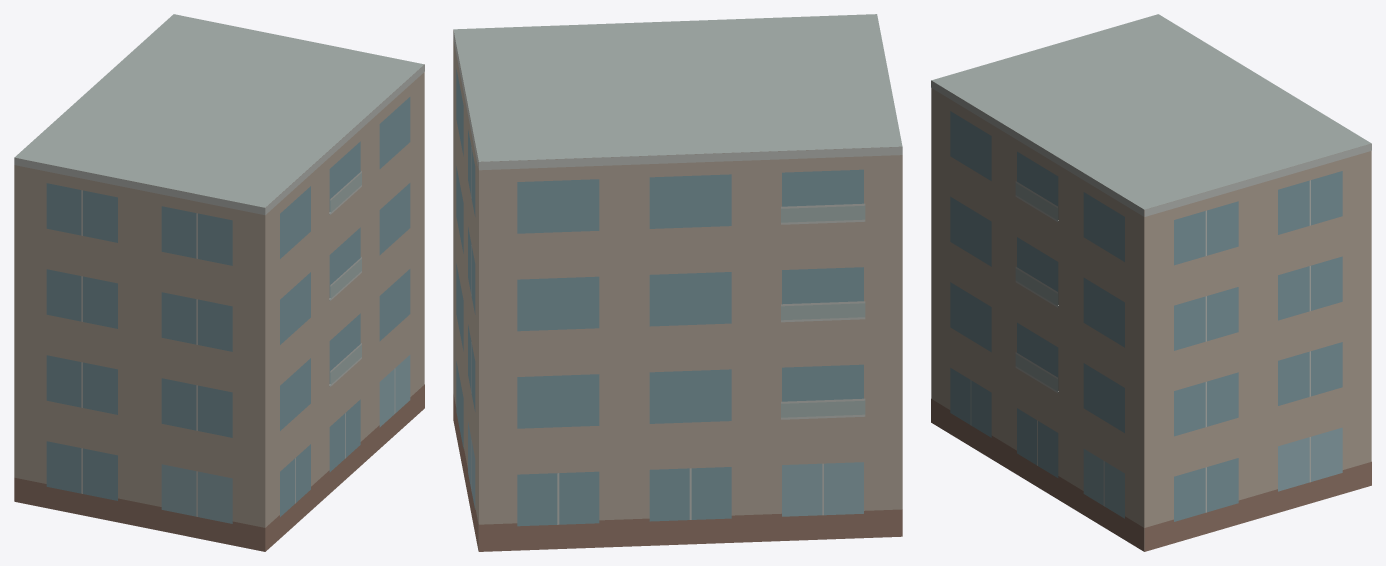
The model's file is survey-upis-32911833.glb.
The picture shows the model from 3 angles, left to right: view 1: azimuth 30°, elevation 25°; view 2: azimuth 150°, elevation 25°; view 3: azimuth 270°, elevation 25°; orthographic projection. The views are drawn at different scales.
Visible parts, largest first — view 1: survey-upis-32911833.tmp; view 2: survey-upis-32911833.tmp; view 3: survey-upis-32911833.tmp.
Boxes of the visible parts, x1,y1,x2,y2 form: survey-upis-32911833.tmp: (14, 14, 424, 551); survey-upis-32911833.tmp: (453, 14, 902, 551); survey-upis-32911833.tmp: (931, 14, 1371, 551).
Bounding box in the file's own units: 13.87 × 11.3 × 13.19.
